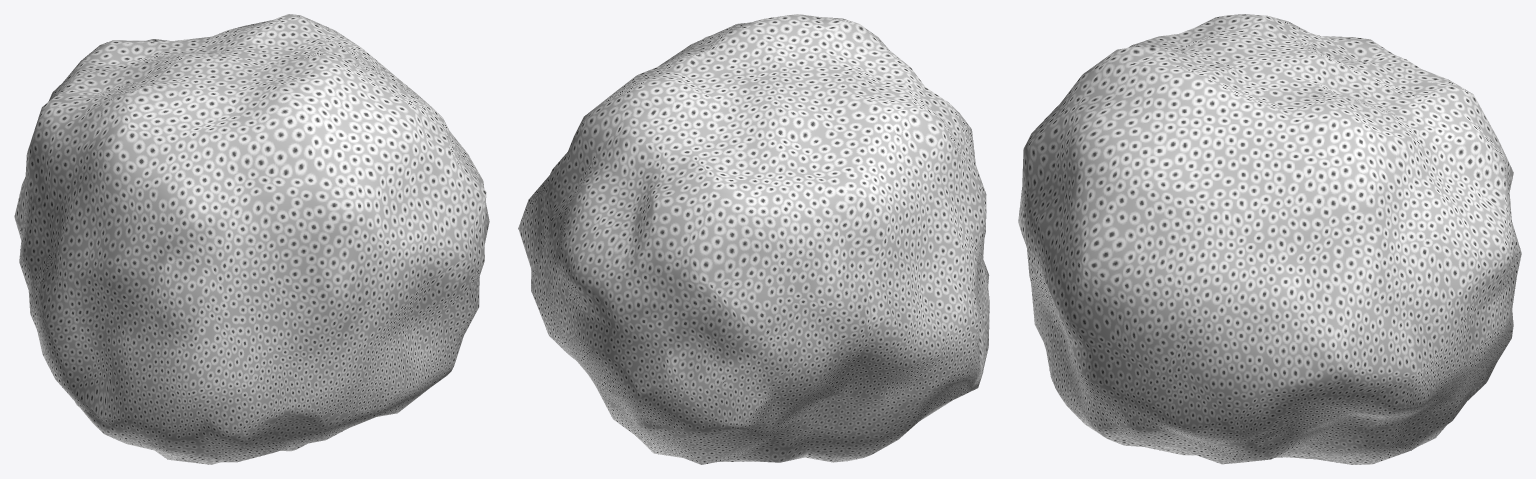
Rendered from BoulderStarCoral00.fbx.
3 renders of one model, left to right at view 1: azimuth 30°, elevation 25°; view 2: azimuth 150°, elevation 25°; view 3: azimuth 270°, elevation 25°, orthographic. The views are drawn at different scales.
Visible parts, largest first — view 1: BoulderStarCoral00; view 2: BoulderStarCoral00; view 3: BoulderStarCoral00.
Boxes of the visible parts, box(x1,y1,x2,y2) form: BoulderStarCoral00: box(14, 14, 489, 464); BoulderStarCoral00: box(518, 14, 989, 464); BoulderStarCoral00: box(1018, 14, 1521, 464).
Size of the model in its own units: 6.27 by 5.36 by 6.13.
